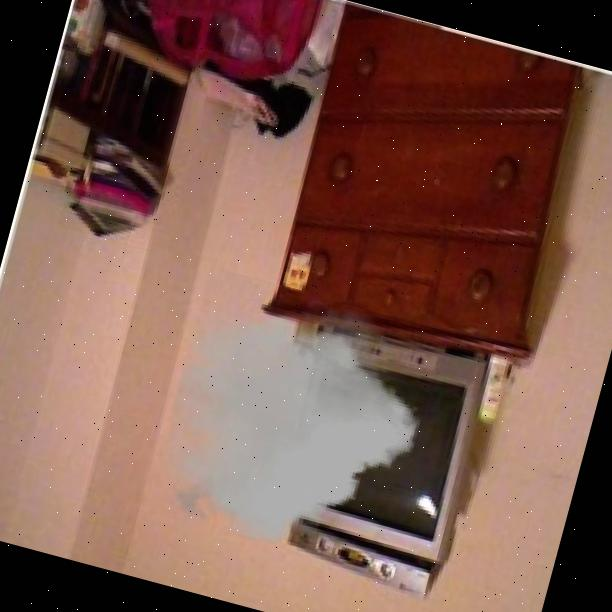smoke: (144, 266, 445, 577)
